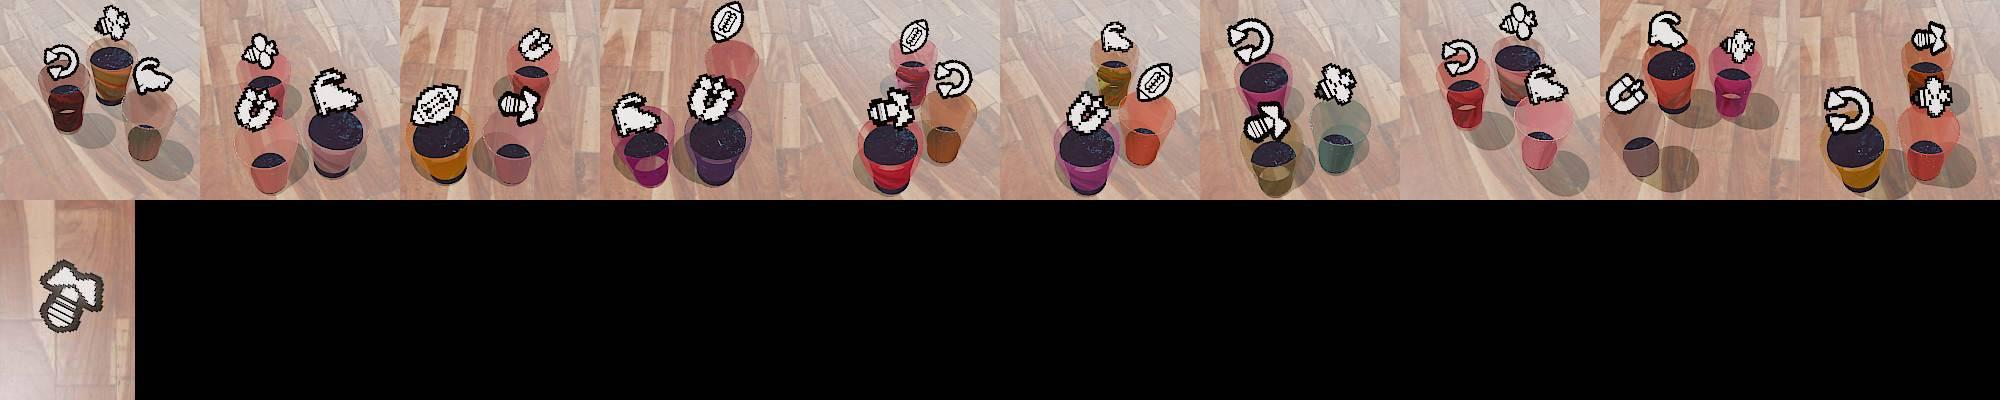icon: (38, 258, 106, 335), (686, 72, 740, 122), (1823, 84, 1876, 134), (308, 68, 362, 117), (610, 91, 663, 137), (233, 83, 281, 133), (1065, 88, 1113, 135), (1229, 18, 1275, 67), (410, 82, 461, 125), (866, 87, 916, 129), (1244, 100, 1291, 143), (1605, 72, 1649, 115), (1523, 65, 1569, 106), (1913, 75, 1956, 117), (498, 85, 542, 126), (1314, 63, 1356, 105), (932, 58, 973, 100), (1646, 10, 1688, 51), (131, 55, 174, 94), (1498, 2, 1539, 41), (1136, 61, 1175, 102), (1440, 38, 1478, 78), (709, 2, 745, 44), (239, 32, 279, 69), (43, 43, 80, 82), (1719, 27, 1757, 64), (517, 26, 555, 63), (1912, 19, 1951, 55), (94, 5, 130, 40), (899, 17, 930, 55), (1101, 20, 1134, 53)
